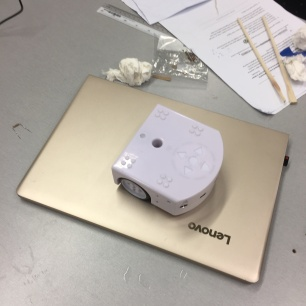thymio: (108, 98, 230, 227)
